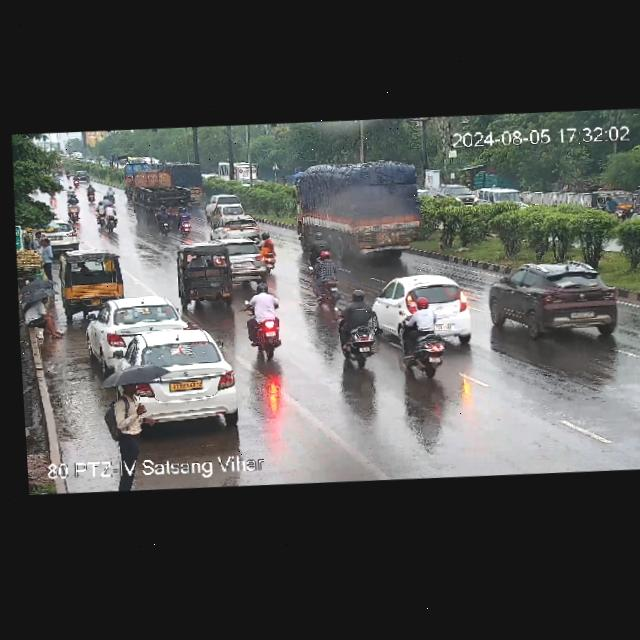car: (485, 254, 628, 342), (124, 328, 241, 415), (369, 267, 480, 344), (89, 293, 190, 354), (173, 236, 240, 308), (56, 247, 127, 311), (212, 233, 270, 281), (588, 181, 640, 223), (36, 217, 82, 252), (482, 184, 528, 212), (211, 212, 258, 238), (202, 192, 244, 219), (433, 185, 476, 209), (633, 182, 640, 221), (76, 169, 92, 181)
motorcycle: (327, 280, 383, 371), (403, 298, 443, 376), (246, 284, 285, 355), (305, 248, 343, 309), (258, 229, 277, 270), (153, 206, 175, 234), (308, 231, 329, 258), (176, 207, 194, 235), (605, 195, 623, 222), (103, 203, 120, 231), (68, 197, 81, 220), (95, 201, 106, 225), (85, 184, 95, 203), (105, 185, 116, 201), (72, 175, 79, 186), (66, 185, 73, 195)
person: (99, 373, 160, 461), (18, 293, 64, 341), (36, 238, 57, 282)
truck: (294, 156, 429, 270), (120, 156, 191, 214), (217, 159, 260, 187)
